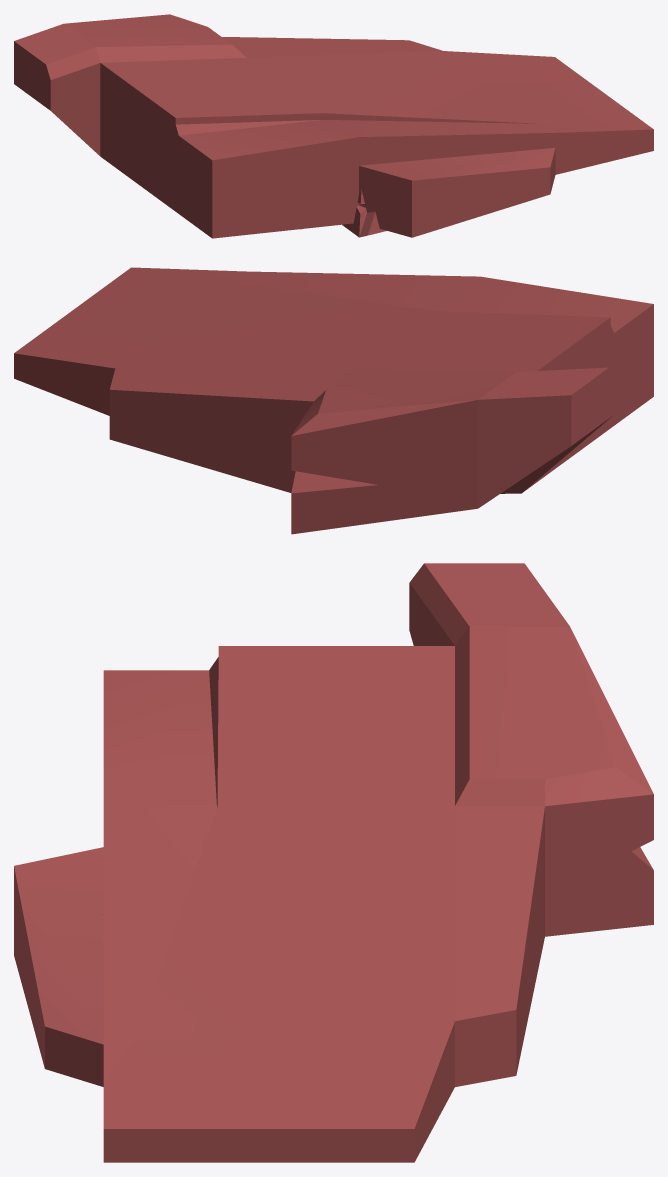
The model's file is SM_Flat_Stone_Pack.fbx.
3 renders of one model, top to bottom at view 1: azimuth 30°, elevation 25°; view 2: azimuth 150°, elevation 25°; view 3: azimuth 270°, elevation 25°, orthographic. The views are drawn at different scales.
Parts seen in each view (by area): view 1: Box034, Box070; view 2: Box034; view 3: Box034.
Part boxes in pixels (x1,y1,x2,y2): Box034: [14, 14, 653, 238]; Box070: [301, 159, 426, 237]; Box034: [14, 267, 653, 534]; Box034: [14, 563, 653, 1162].
Size of the model in its own units: 261 by 71.61 by 182.
